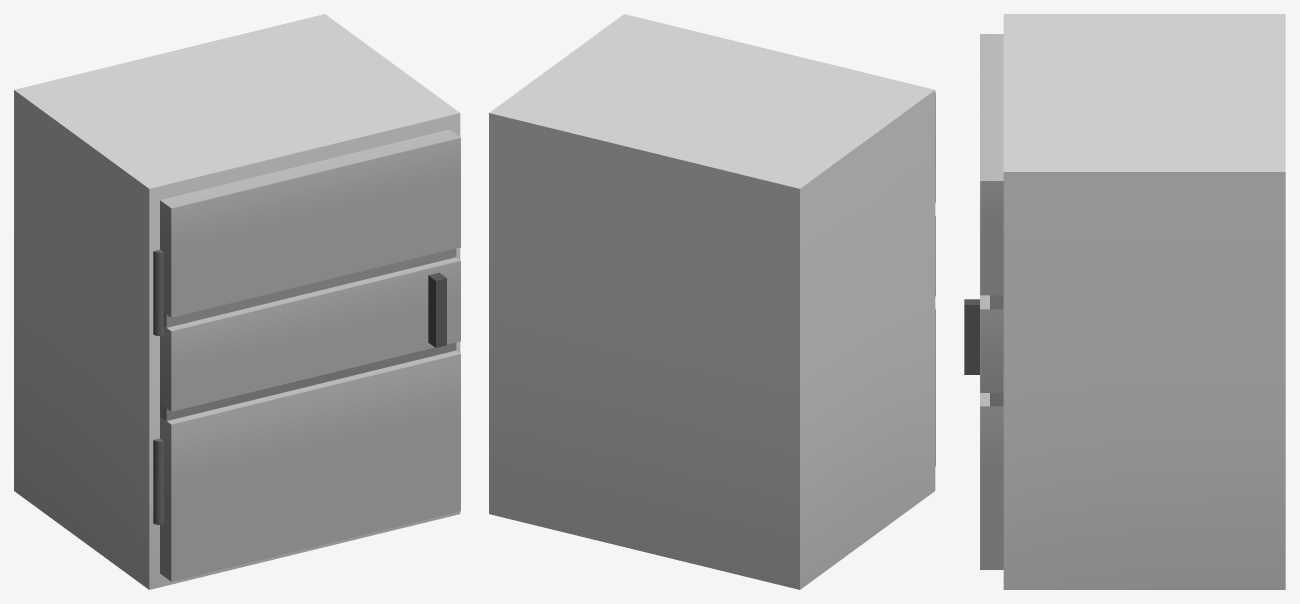
File: Chest2.FBX
3 renders of one model, left to right at view 1: azimuth 30°, elevation 25°; view 2: azimuth 150°, elevation 25°; view 3: azimuth 270°, elevation 25°, orthographic. The views are drawn at different scales.
Visible parts, largest first — view 1: chestdoor2, chestbox2; view 2: chestbox2; view 3: chestbox2, chestdoor2.
Boxes of the visible parts, bbox=[...] form: chestdoor2: bbox=[153, 129, 460, 581]; chestbox2: bbox=[14, 14, 460, 589]; chestbox2: bbox=[489, 14, 935, 589]; chestbox2: bbox=[1003, 14, 1285, 589]; chestdoor2: bbox=[964, 34, 1003, 569].
Bounding box in the file's own units: 19.21 × 23.68 × 16.5.
2 materials, 2 textured.
